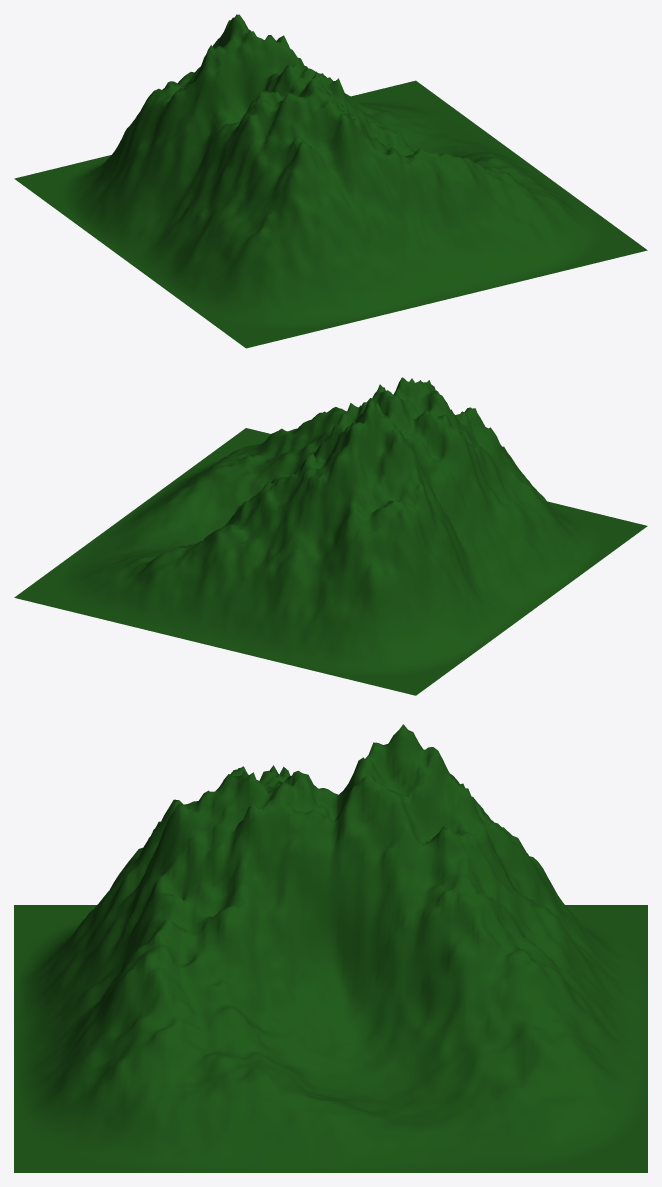
3 renders of one model, top to bottom at view 1: azimuth 30°, elevation 25°; view 2: azimuth 150°, elevation 25°; view 3: azimuth 270°, elevation 25°, orthographic. The views are drawn at different scales.
Visible parts, largest first — view 1: Landscape; view 2: Landscape; view 3: Landscape.
Boxes of the visible parts, x1,y1,x2,y2 form: Landscape: (14,14,647,348); Landscape: (14,377,647,695); Landscape: (14,724,647,1172).
Size of the model in its own units: 2 by 0.938 by 2.
